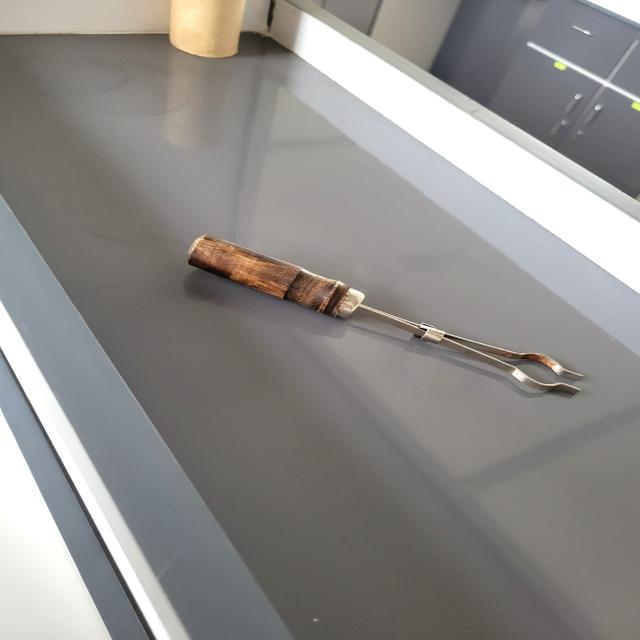TestTube_Holder: (168, 227, 596, 406)
